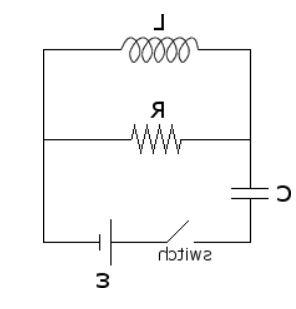Capacitor: (229, 162, 277, 213)
